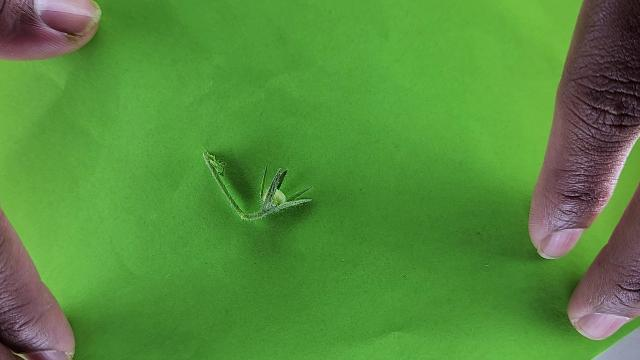Fruit Bud: (254, 165, 312, 219)
